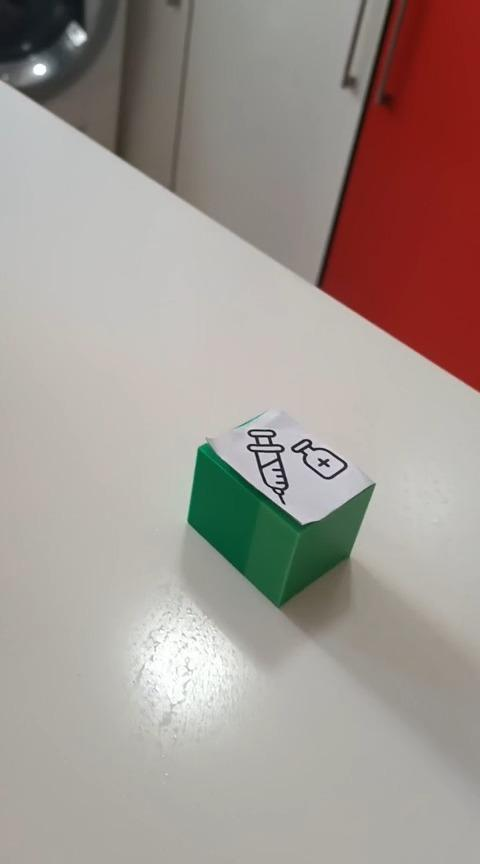antiseptic cream: (185, 406, 376, 608)
